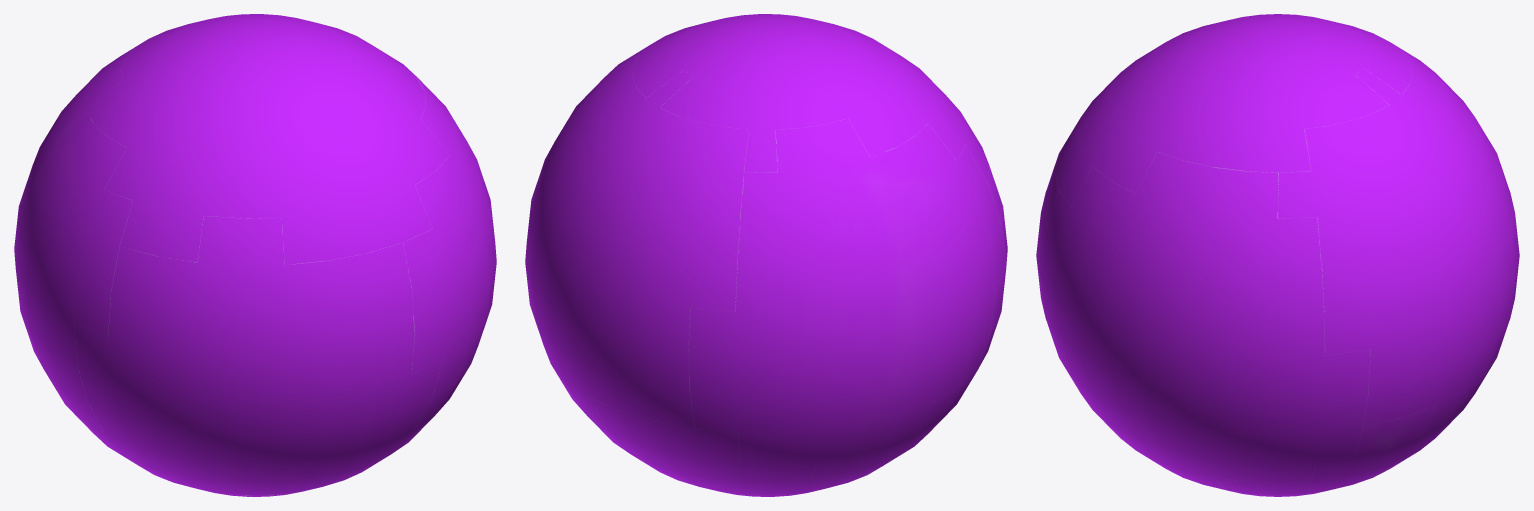
Rendered from marble.fbx.
3 renders of one model, left to right at view 1: azimuth 30°, elevation 25°; view 2: azimuth 150°, elevation 25°; view 3: azimuth 270°, elevation 25°, orthographic.
Visible parts, largest first — view 1: marble sphere; view 2: marble sphere; view 3: marble sphere.
Part boxes in pixels (<box>): marble sphere: <box>14,14,496,496</box>; marble sphere: <box>525,14,1007,496</box>; marble sphere: <box>1036,14,1519,496</box>.
Size of the model in its own units: 200 by 200 by 200.
